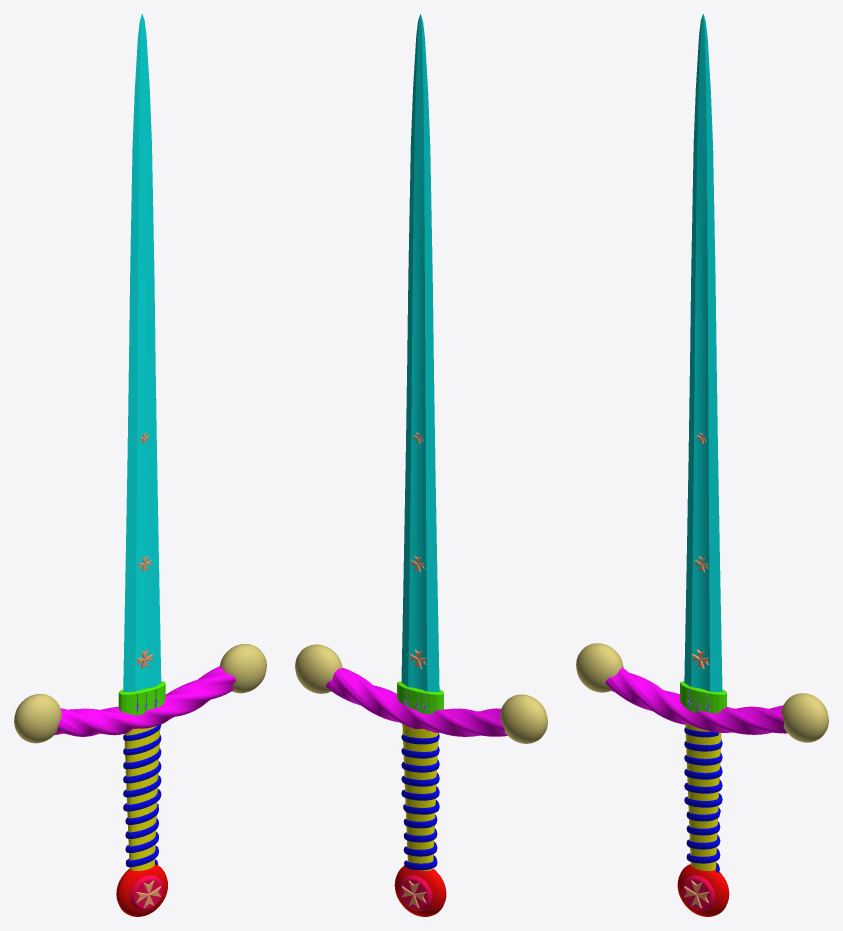
Rendered from Sword_1.fbx.
The picture shows the model from 3 angles, left to right: view 1: azimuth 30°, elevation 25°; view 2: azimuth 150°, elevation 25°; view 3: azimuth 330°, elevation 25°; orthographic projection.
Parts seen in each view (by area): view 1: pCylinder2_high, pCube3_high, pHelix1_high, pCylinder1_high, pSphere3_high, pSphere2_high, pSphere1_high, pCylinder3_high, pCylinder4_high; view 2: pCylinder2_high, pCube3_high, pHelix1_high, pCylinder1_high, pSphere3_high, pSphere2_high, pSphere1_high, pCylinder3_high, pCylinder4_high; view 3: pCylinder2_high, pCube3_high, pHelix1_high, pCylinder1_high, pSphere2_high, pSphere3_high, pSphere1_high, pCylinder3_high, pCylinder4_high.
Boxes of the visible parts, <box> form: pCylinder2_high: <box>123,14,161,691</box>; pCube3_high: <box>54,666,235,736</box>; pHelix1_high: <box>123,725,161,867</box>; pCylinder1_high: <box>124,726,160,870</box>; pSphere3_high: <box>14,694,61,743</box>; pSphere2_high: <box>220,644,266,693</box>; pSphere1_high: <box>116,864,167,916</box>; pCylinder3_high: <box>118,681,165,715</box>; pCylinder4_high: <box>130,875,163,910</box>; pCylinder2_high: <box>401,14,439,691</box>; pCube3_high: <box>326,667,507,736</box>; pHelix1_high: <box>401,733,439,870</box>; pCylinder1_high: <box>402,724,438,870</box>; pSphere3_high: <box>500,694,547,743</box>; pSphere2_high: <box>295,644,342,693</box>; pSphere1_high: <box>394,865,446,916</box>; pCylinder3_high: <box>397,681,443,714</box>; pCylinder4_high: <box>399,875,432,910</box>; pCylinder2_high: <box>684,14,722,691</box>; pCube3_high: <box>605,667,787,734</box>; pHelix1_high: <box>684,727,722,872</box>; pCylinder1_high: <box>685,723,721,870</box>; pSphere2_high: <box>781,693,828,742</box>; pSphere3_high: <box>576,643,623,692</box>; pSphere1_high: <box>677,864,729,916</box>; pCylinder3_high: <box>680,681,726,713</box>; pCylinder4_high: <box>682,875,715,910</box>.
Bounding box in the file's own units: 12.95 × 44.77 × 1.67.
